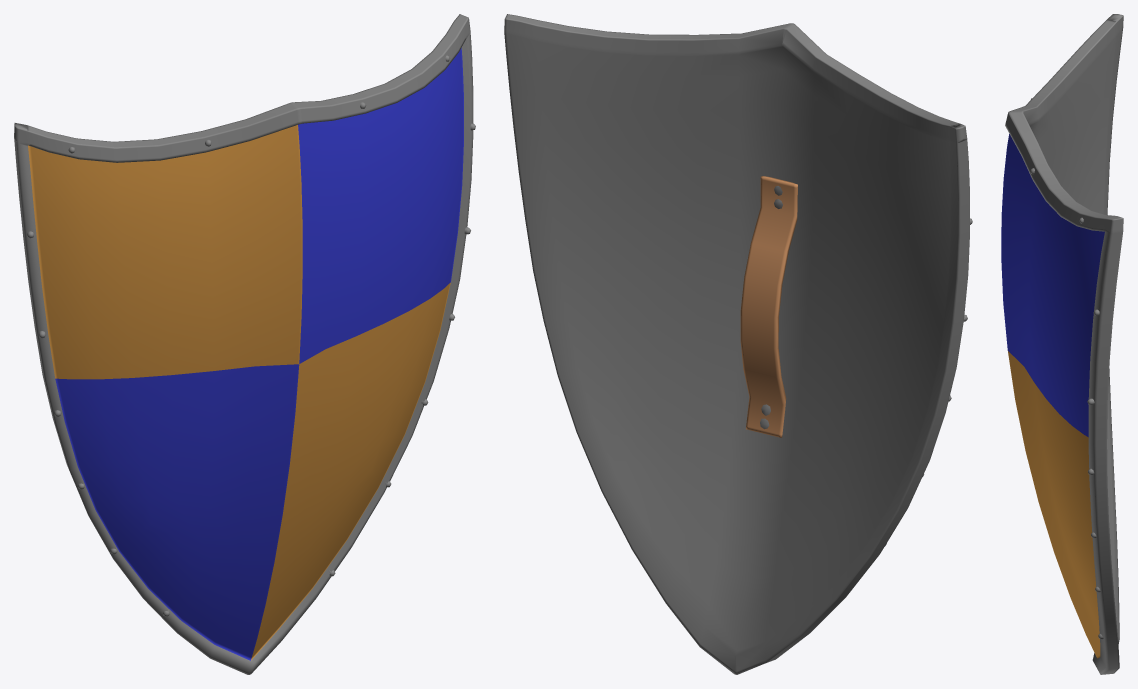
File: MetalKiteShield.fbx
3 views of the same model, side by side, from view 1: azimuth 30°, elevation 25°; view 2: azimuth 150°, elevation 25°; view 3: azimuth 270°, elevation 25° (orthographic). The views are drawn at different scales.
Parts seen in each view (by area): view 1: KiteShield_LOD0; view 2: KiteShield_LOD0; view 3: KiteShield_LOD0.
Part boxes in pixels (x1,y1,x2,y2): KiteShield_LOD0: [14, 14, 475, 674]; KiteShield_LOD0: [504, 14, 972, 674]; KiteShield_LOD0: [1001, 14, 1123, 674].
Size of what is drawn, in the model's own units: 75.83 by 96.19 by 18.97.
